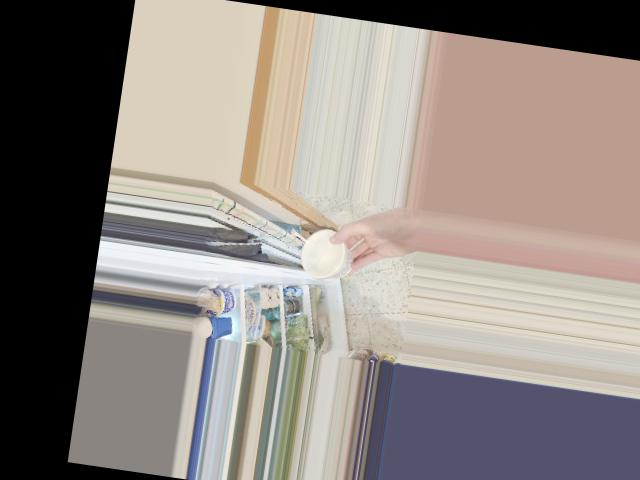cotage: (292, 231, 349, 281)
